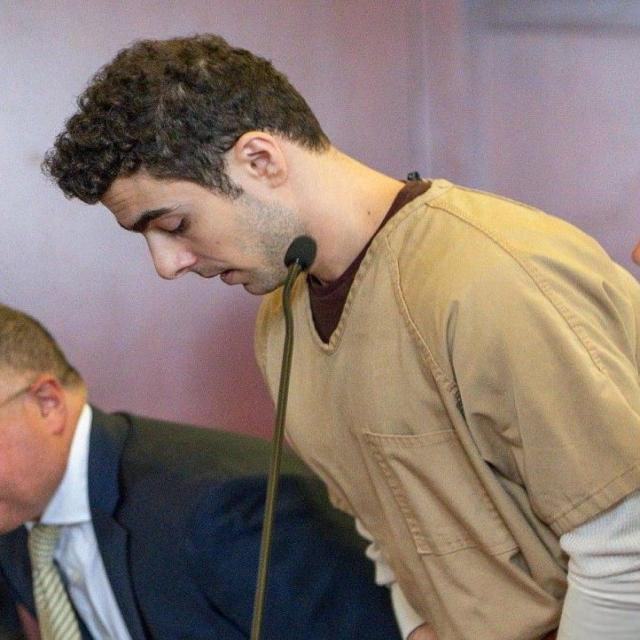9_cabeza_baja: (40, 34, 337, 296)
